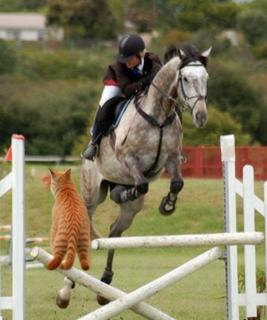cat: (47, 169, 90, 269)
horse: (56, 43, 214, 310)
person: (83, 33, 166, 162)
